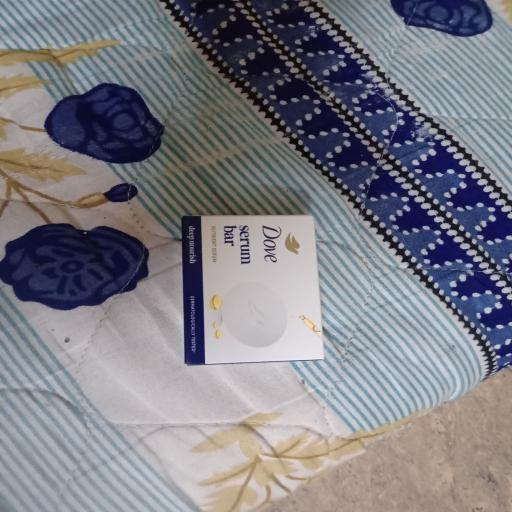Dove`1: (177, 209, 348, 380)
